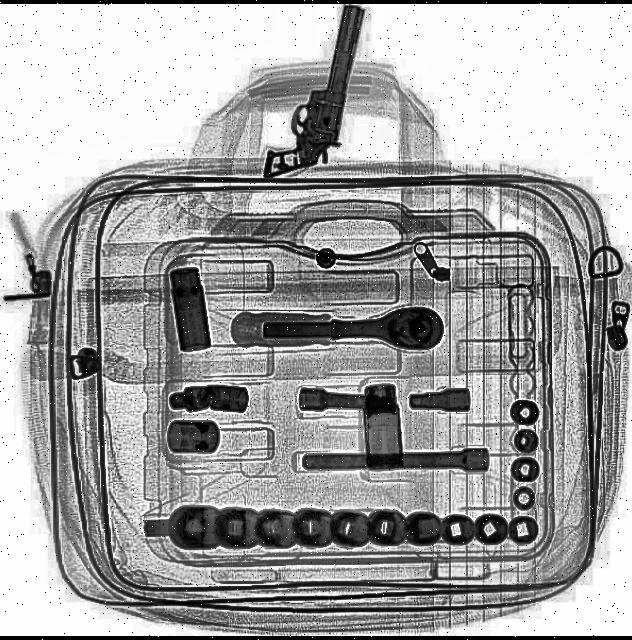Gun: (258, 5, 362, 194)
